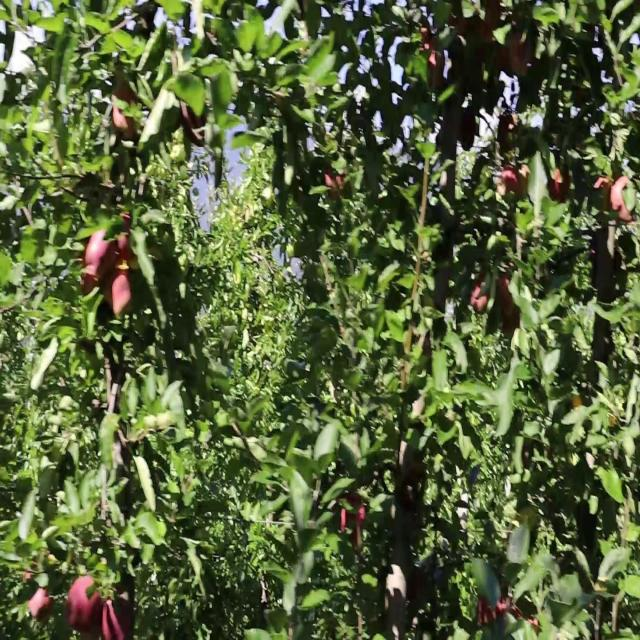apple: (84, 234, 116, 290), (112, 85, 138, 140), (72, 575, 100, 626), (340, 497, 367, 546), (104, 597, 134, 639), (508, 35, 534, 78), (120, 213, 139, 270), (612, 177, 633, 226), (112, 270, 133, 318), (500, 277, 520, 327), (28, 590, 55, 626), (184, 106, 207, 148), (548, 170, 572, 206), (500, 277, 519, 318), (120, 234, 139, 272), (500, 113, 518, 151), (448, 14, 474, 39), (472, 277, 489, 313), (484, 0, 503, 30), (596, 177, 611, 213), (324, 170, 347, 192), (500, 170, 518, 197), (480, 597, 496, 626), (476, 21, 493, 48), (64, 597, 78, 629), (496, 42, 509, 73), (520, 163, 531, 197), (572, 398, 584, 411)
